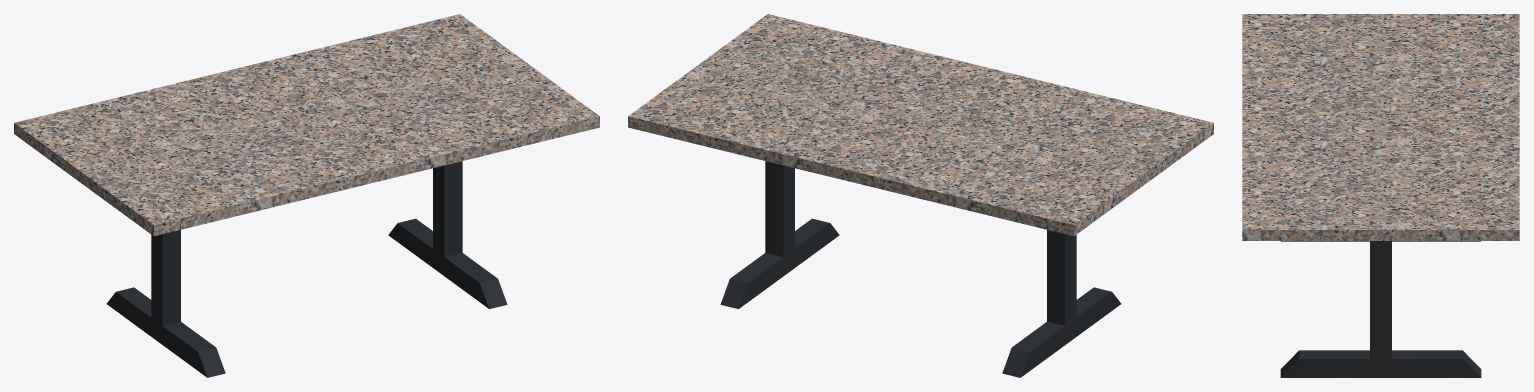
The model's file is table.glb.
3 renders of one model, left to right at view 1: azimuth 30°, elevation 25°; view 2: azimuth 150°, elevation 25°; view 3: azimuth 270°, elevation 25°, orthographic.
Visible parts, largest first — view 1: Table; view 2: Table; view 3: Table.
Boxes of the visible parts, left/top/right/bottom form: Table: left=14, top=14, right=599, bottom=377; Table: left=628, top=14, right=1213, bottom=377; Table: left=1242, top=14, right=1519, bottom=377.
Bounding box in the file's own units: 2.28 × 0.9015 × 1.24.
Materials: 2 (2 with a texture image).
